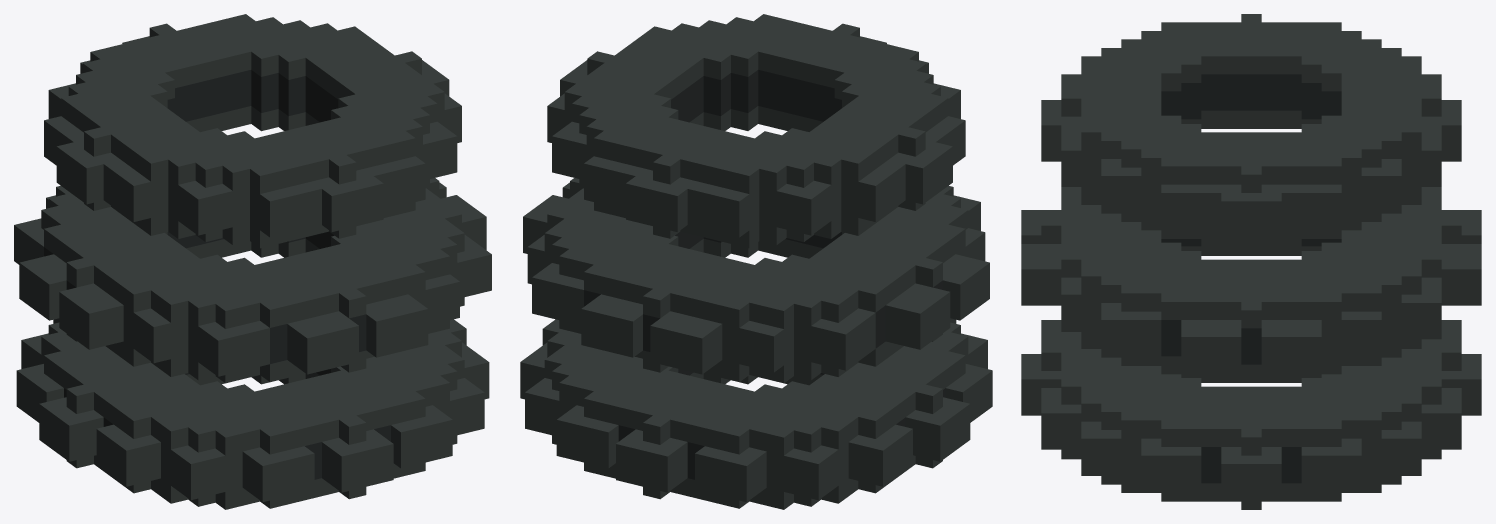
File: tires-3.glb
The picture shows the model from 3 angles, left to right: view 1: azimuth 30°, elevation 25°; view 2: azimuth 150°, elevation 25°; view 3: azimuth 270°, elevation 25°; orthographic projection.
Parts seen in each view (by area): view 1: Untitled; view 2: Untitled; view 3: Untitled.
Part boxes in pixels (x1,y1,x2,y2): Untitled: (14, 14, 491, 509); Untitled: (520, 14, 992, 509); Untitled: (1021, 14, 1481, 509).
Size of the model in its own units: 2.3 by 1.8 by 2.3.
Materials: 1 (1 with a texture image).
